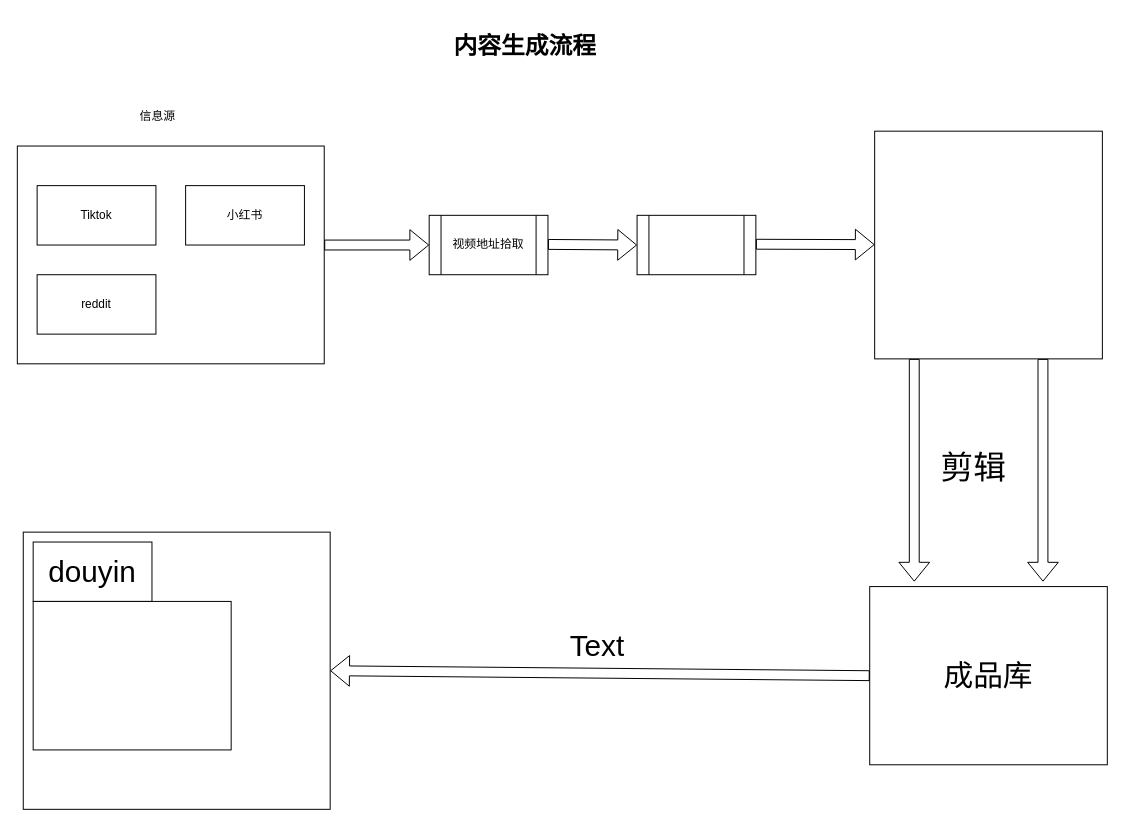
Some shapes in this 1125 by 827 pixel diagram are drawn without their labels. Here are the shapes that lost their labels. From the top down, the centre of each, then its label:
At (x=696, y=244): "视频去水印".
At (x=988, y=244): "素材库".
At (x=131, y=675): "xiaohongshu".
